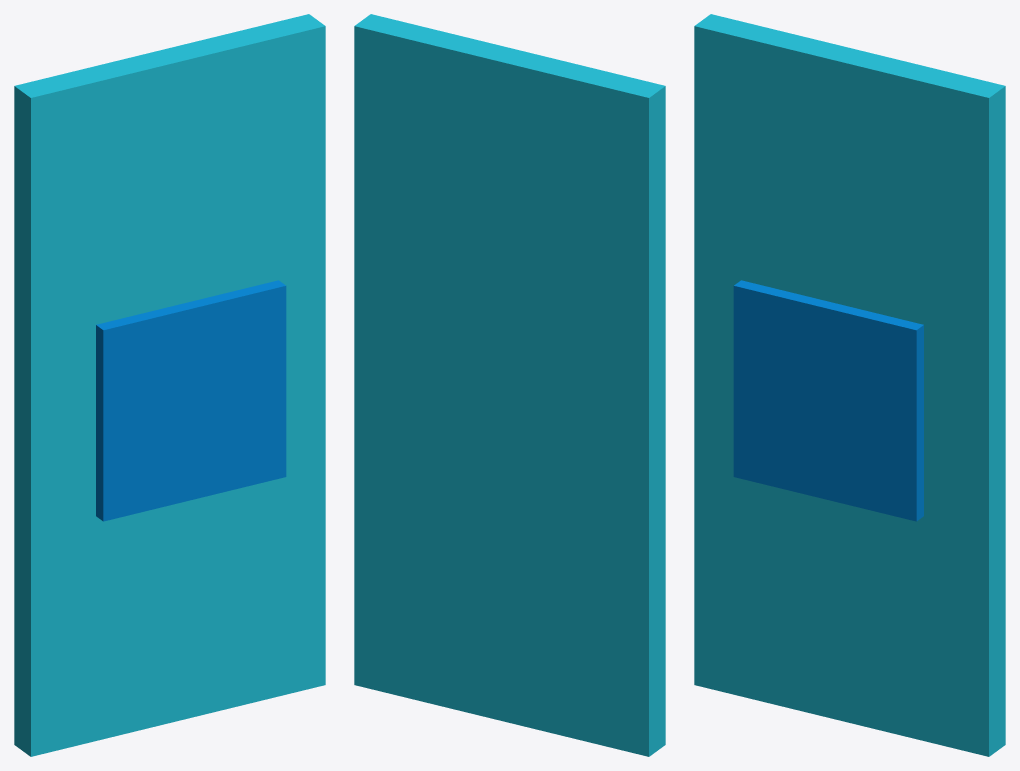
Rendered from lighttest.glb.
3 views of the same model, side by side, from view 1: azimuth 30°, elevation 25°; view 2: azimuth 150°, elevation 25°; view 3: azimuth 330°, elevation 25° (orthographic).
Parts seen in each view (by area): view 1: 背景, block; view 2: 背景; view 3: 背景, block.
Part boxes in pixels (x1,y1,x2,y2): 背景: [14, 14, 325, 756]; block: [96, 280, 286, 521]; 背景: [354, 14, 665, 756]; 背景: [694, 14, 1005, 756]; block: [733, 280, 923, 521].
Size of the model in its own units: 1.61 by 3.44 by 0.314.
